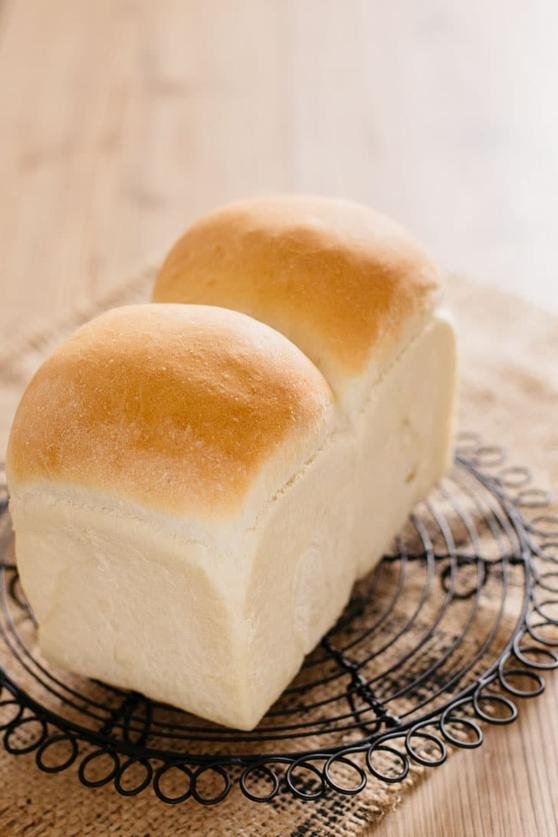white_bread: (16, 183, 471, 726)
